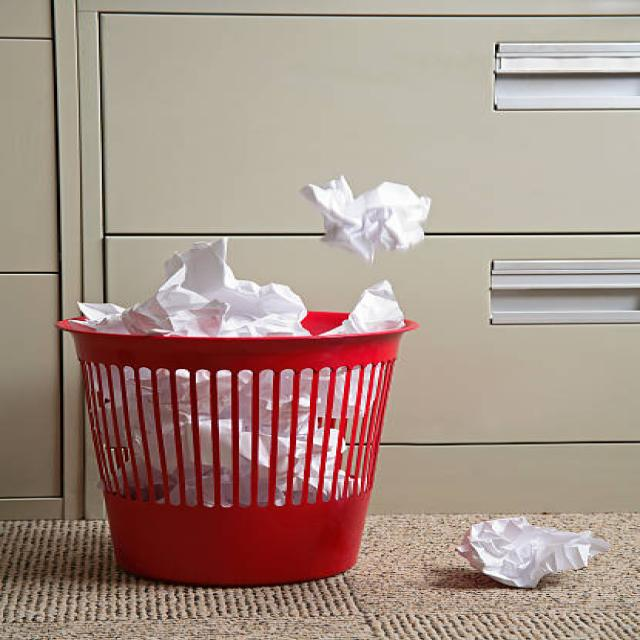electronic: (72, 236, 312, 337), (298, 174, 430, 264), (455, 516, 611, 588), (318, 279, 406, 336)
